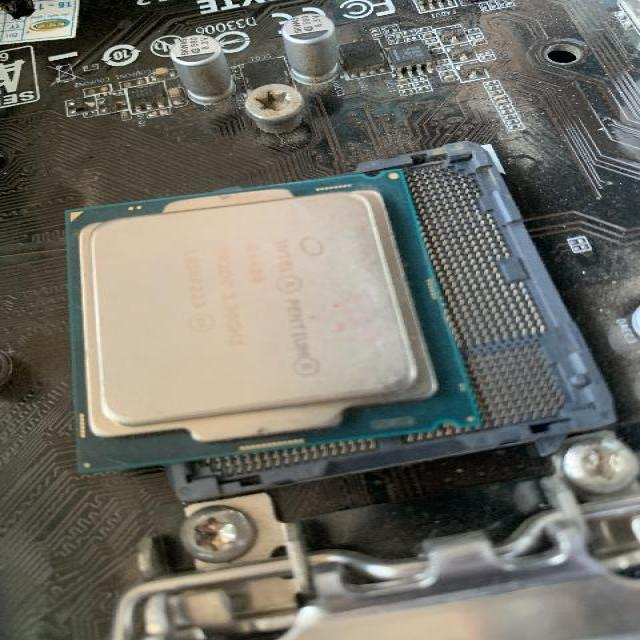CPU: (64, 169, 484, 475)
